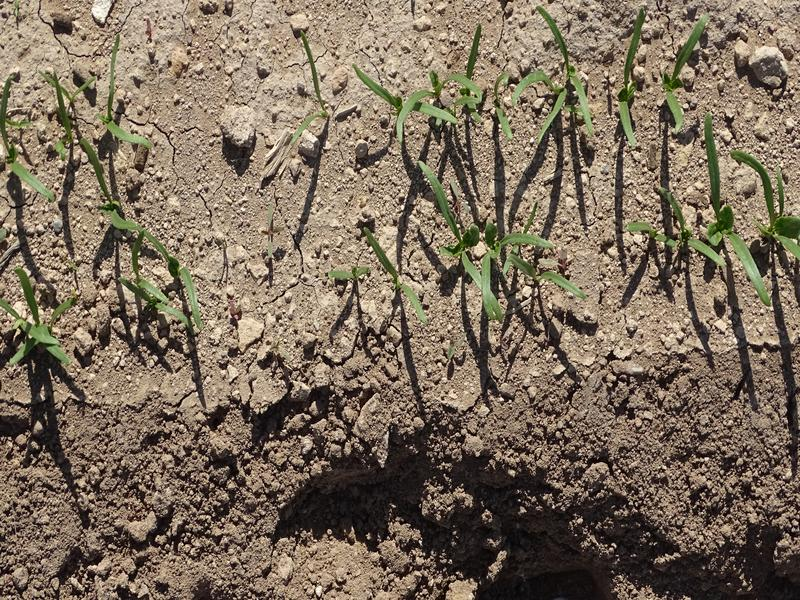Espinaca: (367, 12, 719, 143), (1, 41, 145, 197), (420, 166, 577, 308), (638, 149, 800, 283), (105, 211, 202, 326), (1, 273, 79, 364), (293, 35, 332, 158), (366, 239, 423, 321)
